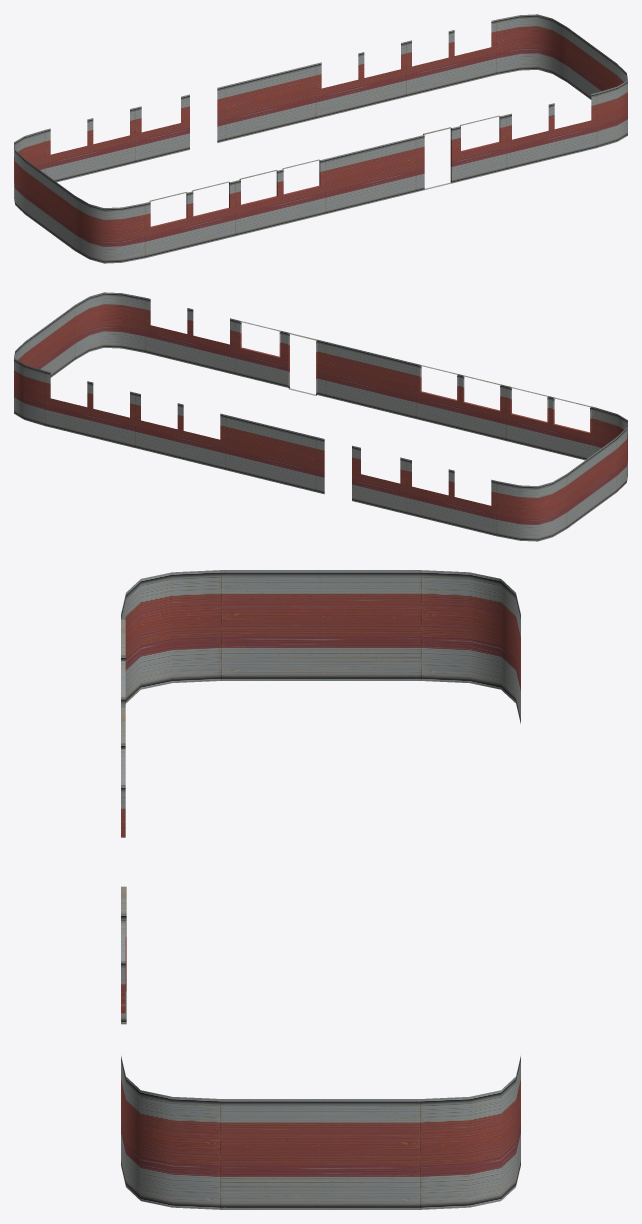
File: rural_diner_1_rural_trailer_stuff_1_0.glb
3 renders of one model, top to bottom at view 1: azimuth 30°, elevation 25°; view 2: azimuth 150°, elevation 25°; view 3: azimuth 270°, elevation 25°, orthographic. The views are drawn at different scales.
Visible parts, largest first — view 1: Rural_Diner_1_Rural_Trailer_Stuff_1_0; view 2: Rural_Diner_1_Rural_Trailer_Stuff_1_0; view 3: Rural_Diner_1_Rural_Trailer_Stuff_1_0.
Part boxes in pixels (x1,y1,x2,y2): Rural_Diner_1_Rural_Trailer_Stuff_1_0: [14, 14, 627, 263]; Rural_Diner_1_Rural_Trailer_Stuff_1_0: [14, 292, 627, 541]; Rural_Diner_1_Rural_Trailer_Stuff_1_0: [121, 570, 520, 1209].
Size of the model in its own units: 13.33 by 1.3 by 4.26.
Materials: 1 (1 with a texture image).
